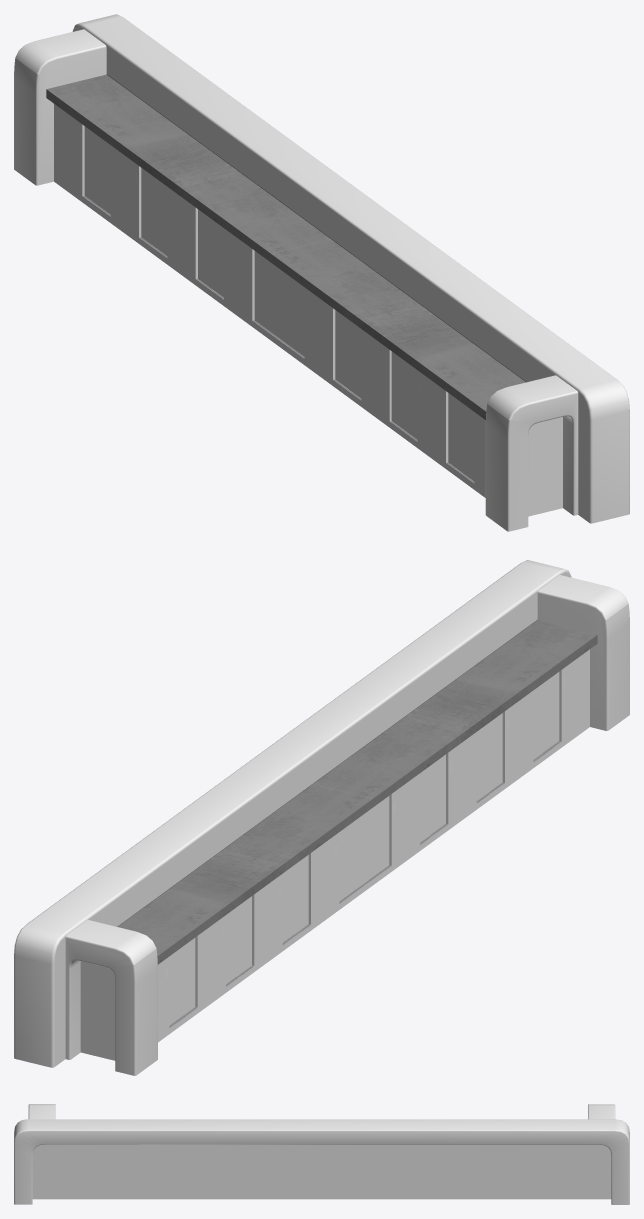
Rendered from Bar01_1.FBX.
The picture shows the model from 3 angles, top to bottom: view 1: azimuth 30°, elevation 25°; view 2: azimuth 150°, elevation 25°; view 3: azimuth 270°, elevation 25°; orthographic projection. The views are drawn at different scales.
Visible parts, largest first — view 1: Bar01_1; view 2: Bar01_1; view 3: Bar01_1.
Part boxes in pixels (x1,y1,x2,y2): Bar01_1: [14, 14, 629, 531]; Bar01_1: [14, 560, 629, 1075]; Bar01_1: [14, 1104, 629, 1204].
Size of the model in its own units: 111 by 120 by 900.
